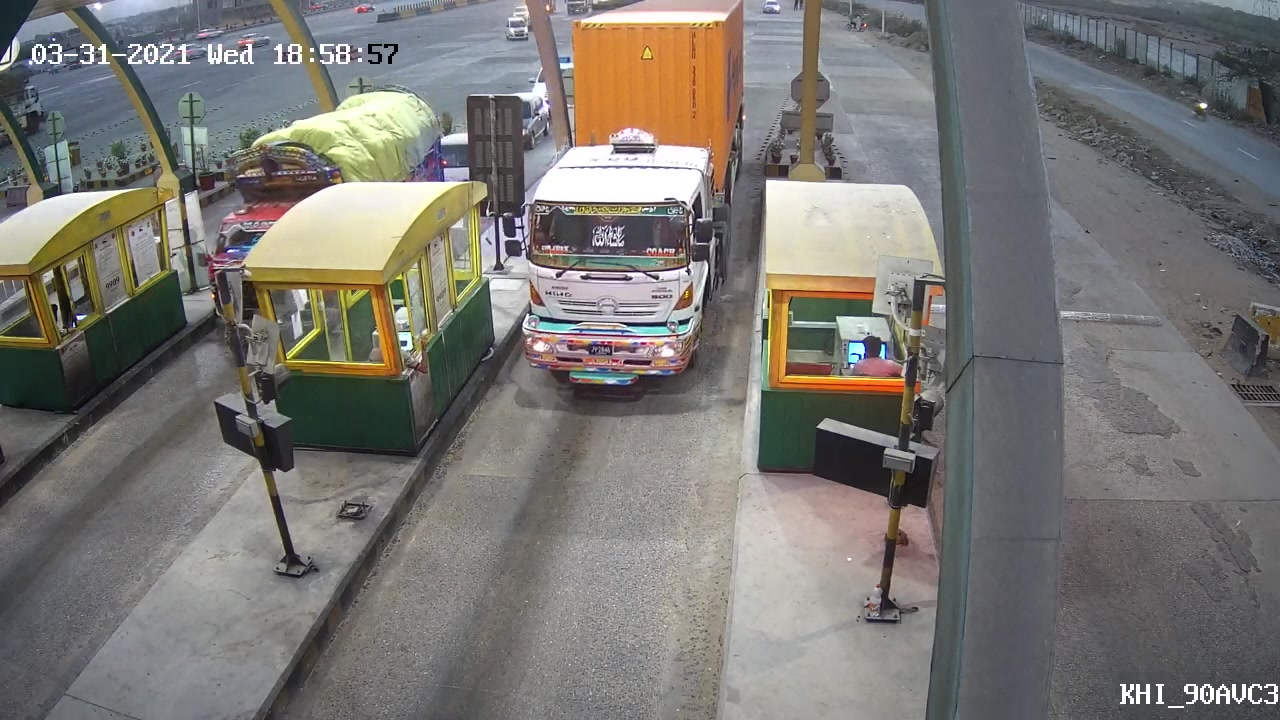F6: (496, 5, 739, 394)
